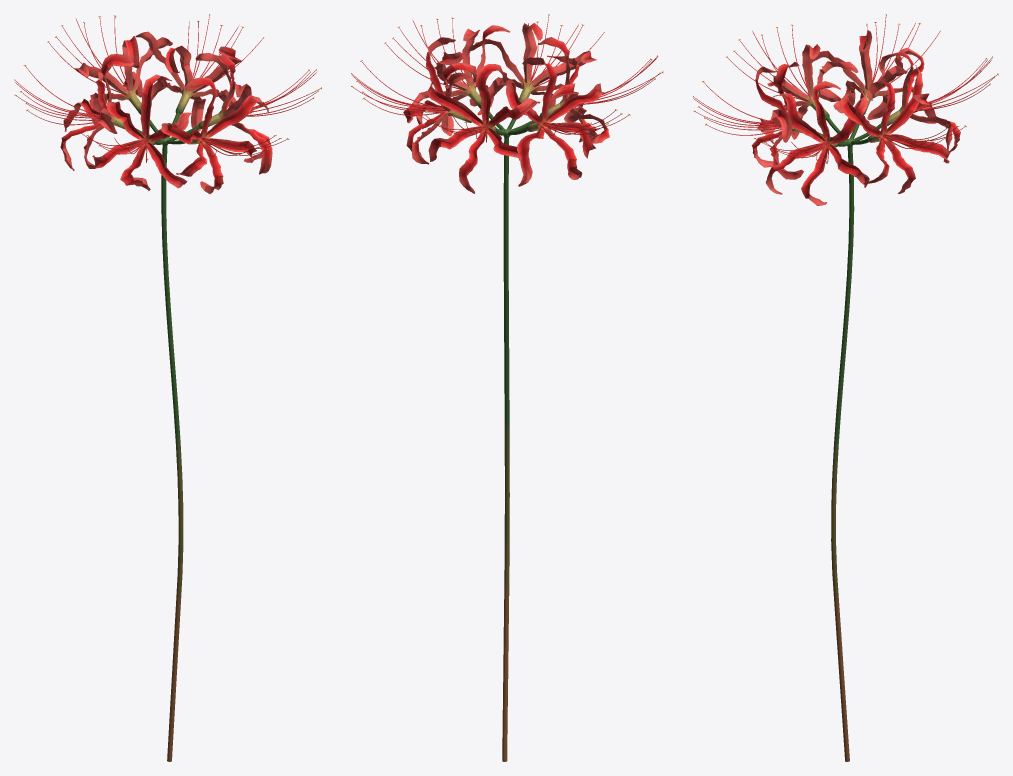
Rendered from lilly.glb.
The picture shows the model from 3 angles, left to right: view 1: azimuth 30°, elevation 25°; view 2: azimuth 150°, elevation 25°; view 3: azimuth 270°, elevation 25°; orthographic projection. The views are drawn at different scales.
Parts seen in each view (by area): view 1: Lycoris.Radiata; view 2: Lycoris.Radiata; view 3: Lycoris.Radiata.
Part boxes in pixels (<box>): Lycoris.Radiata: <box>14,14,321,761</box>; Lycoris.Radiata: <box>351,14,663,761</box>; Lycoris.Radiata: <box>693,14,998,761</box>.
Bounding box in the file's own units: 0.2727 × 0.7047 × 0.2763.
1 material, 1 textured.
